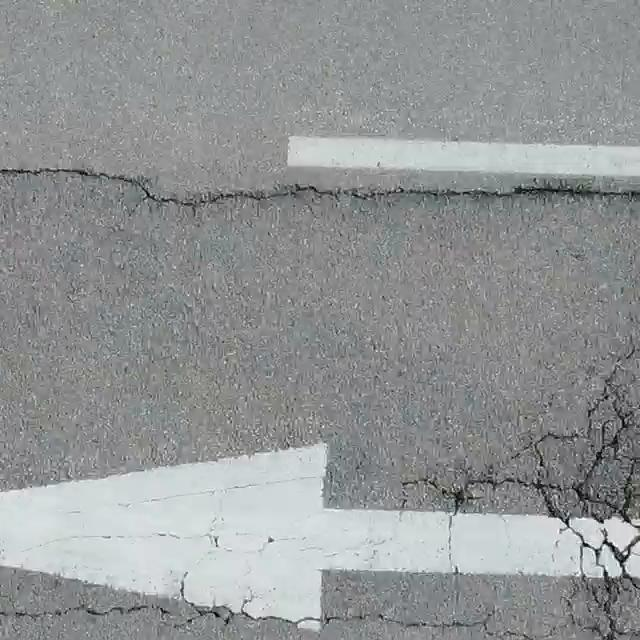GRIETA: (0, 167, 639, 207), (240, 585, 535, 639), (449, 478, 489, 559), (395, 477, 453, 522), (0, 604, 171, 619)
PIEL DE COCODRILO: (492, 341, 639, 639), (173, 569, 237, 634)
